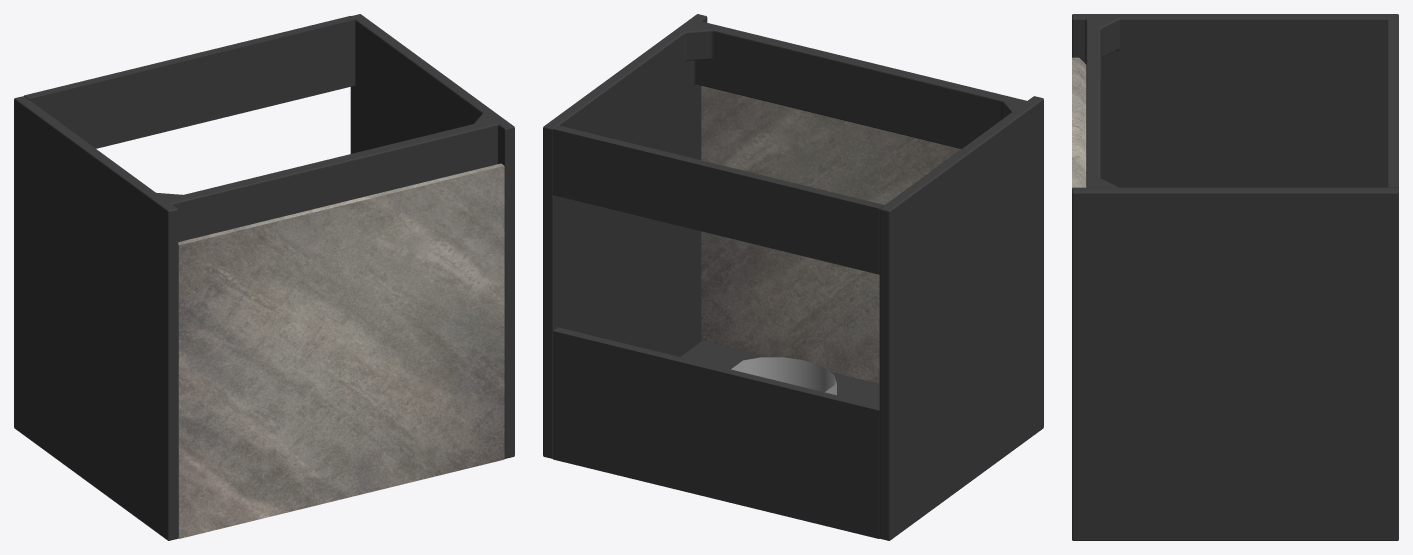
File: Vanity-Cabinet-Hybrid-Pebble-500mm.glb
3 views of the same model, side by side, from view 1: azimuth 30°, elevation 25°; view 2: azimuth 150°, elevation 25°; view 3: azimuth 270°, elevation 25° (orthographic). The views are drawn at different scales.
Parts seen in each view (by area): view 1: VC80 1.004; view 2: VC80 1.004; view 3: VC80 1.004.
Part boxes in pixels (x1=…): VC80 1.004: x1=14, y1=14, x2=514, y2=540; VC80 1.004: x1=543, y1=14, x2=1043, y2=540; VC80 1.004: x1=1072, y1=14, x2=1398, y2=540.
Bounding box in the file's own units: 0.5 × 0.455 × 0.386.
Materials: 3 (1 with a texture image).
